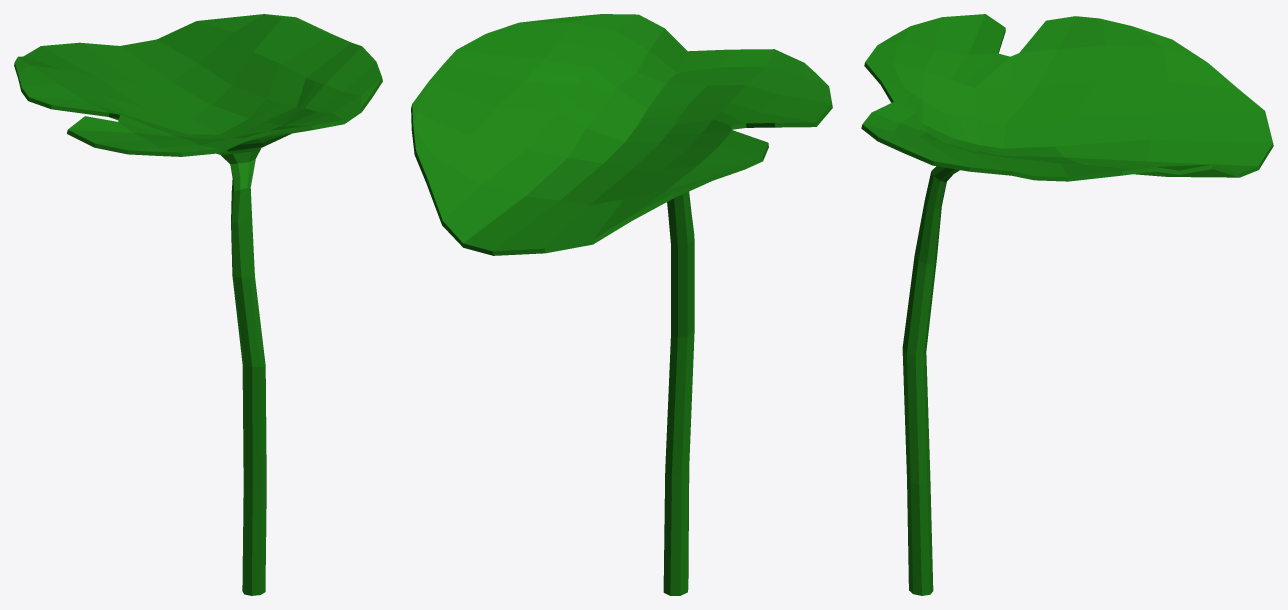
File: HOJALOTO1.fbx
The picture shows the model from 3 angles, left to right: view 1: azimuth 30°, elevation 25°; view 2: azimuth 150°, elevation 25°; view 3: azimuth 270°, elevation 25°; orthographic projection. The views are drawn at different scales.
Visible parts, largest first — view 1: Plane.007; view 2: Plane.007; view 3: Plane.007.
Part boxes in pixels (box(x1,y1,x2,y2)): Plane.007: box(14, 14, 382, 595); Plane.007: box(411, 14, 832, 595); Plane.007: box(861, 14, 1273, 595).
Size of the model in its own units: 306 by 453 by 339.
